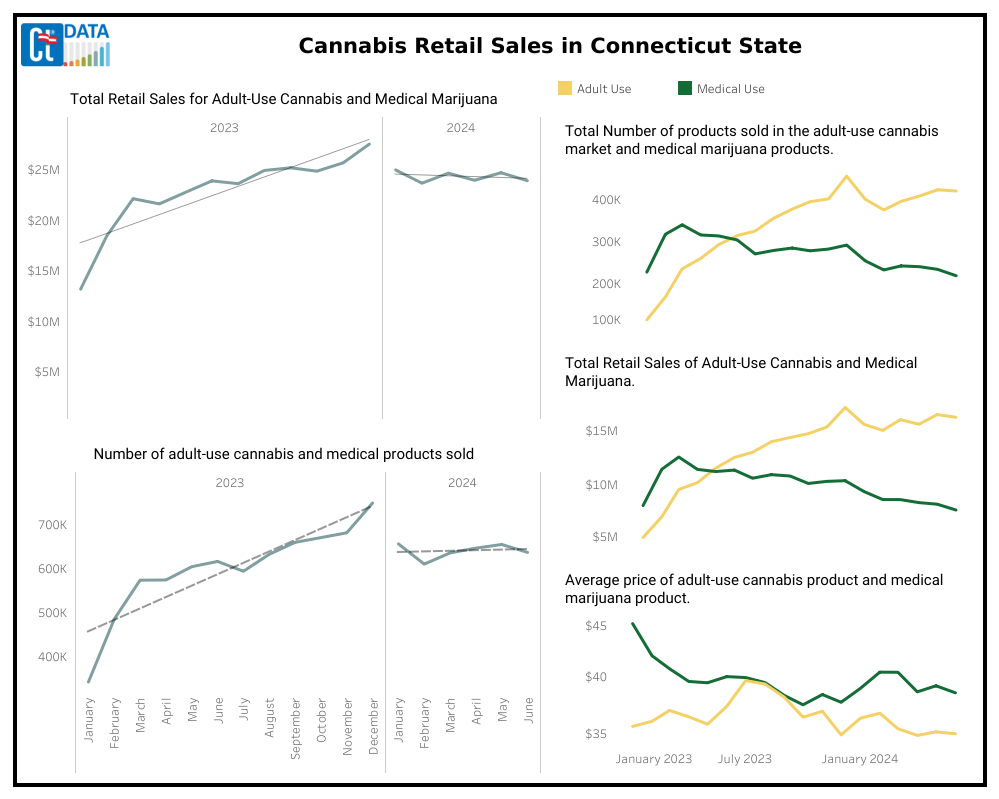

This screenshot's page, from the dashboard's own definition file:
{"tool":"tableau","page":{"name":"Dashboard 3","canvas":[1000,800],"ordinal":0},"visuals":[{"type":"image","param":"Image/Screenshot 2024-07-15 202025.png","box":[17,17,101,56.7]},{"type":"text","box":[118,17,865,56.7]},{"type":"legend","title":"Sheet 3","param":"[odata.1ueipi40s43ztc12foq990mw0mgc].[:Measure Names]","box":[550.9,73.7,432.1,32]},{"type":"worksheet","title":"Sheet 7","mark":"Automatic","rows":["total"],"cols":["unnamed_column","unnamed_column"],"box":[17,74,534,355]},{"type":"worksheet","title":"Sheet 1","mark":"Line","rows":["adult_use_products_sold","medical_products_sold"],"cols":["unnamed_column"],"box":[550.9,105.7,432.1,232]},{"type":"worksheet","title":"Sheet 3","mark":"Automatic","rows":["adult_use","medical"],"cols":["unnamed_column"],"box":[550.9,337.7,432.1,217]},{"type":"worksheet","title":"Sheet 6","mark":"Automatic","rows":["total_products_sold"],"cols":["unnamed_column","unnamed_column"],"box":[17,429,534,354]},{"type":"worksheet","title":"Sheet 5","mark":"Automatic","rows":["adult_use_cannabis_average_product_price","medical_marijuana_average_product_price"],"cols":["unnamed_column"],"box":[550.9,554.7,432.1,228.3]}]}

Visuals, with their boxes in screenshot pixels (x1, y1, x2, y2), scaled from the page's 1000x800 canvas onto the 999x799 screenshot:
image: (17, 17, 118, 74)
text: (118, 17, 982, 74)
"Sheet 3" legend: (550, 74, 982, 106)
"Sheet 7" worksheet: (17, 74, 550, 428)
"Sheet 1" worksheet (Line marks): (550, 106, 982, 337)
"Sheet 3" worksheet: (550, 337, 982, 554)
"Sheet 6" worksheet: (17, 428, 550, 782)
"Sheet 5" worksheet: (550, 554, 982, 782)
